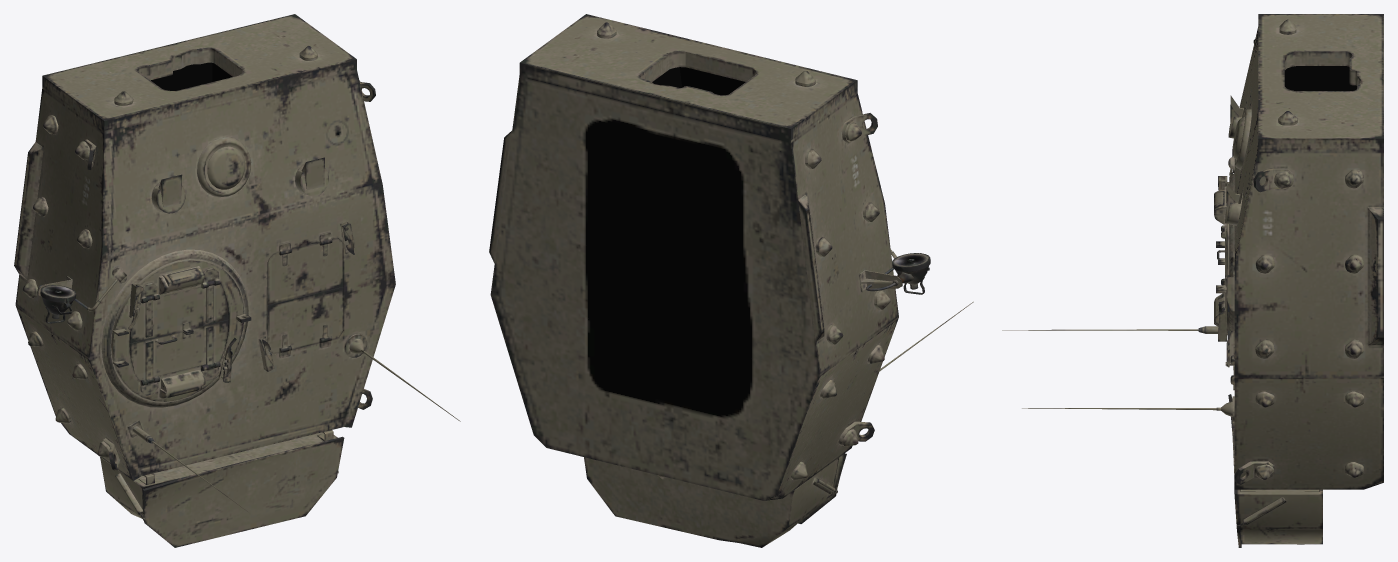
File: Turret_01.glb
The picture shows the model from 3 angles, left to right: view 1: azimuth 30°, elevation 25°; view 2: azimuth 150°, elevation 25°; view 3: azimuth 270°, elevation 25°; orthographic projection. The views are drawn at different scales.
Visible parts, largest first — view 1: set_0_group_0; view 2: set_0_group_0; view 3: set_0_group_0.
Boxes of the visible parts, x1,y1,x2,y2 form: set_0_group_0: [14, 14, 460, 547]; set_0_group_0: [489, 14, 973, 547]; set_0_group_0: [1002, 14, 1383, 547].
Bounding box in the file's own units: 2.08 × 2.53 × 1.94.
1 material, 1 textured.
